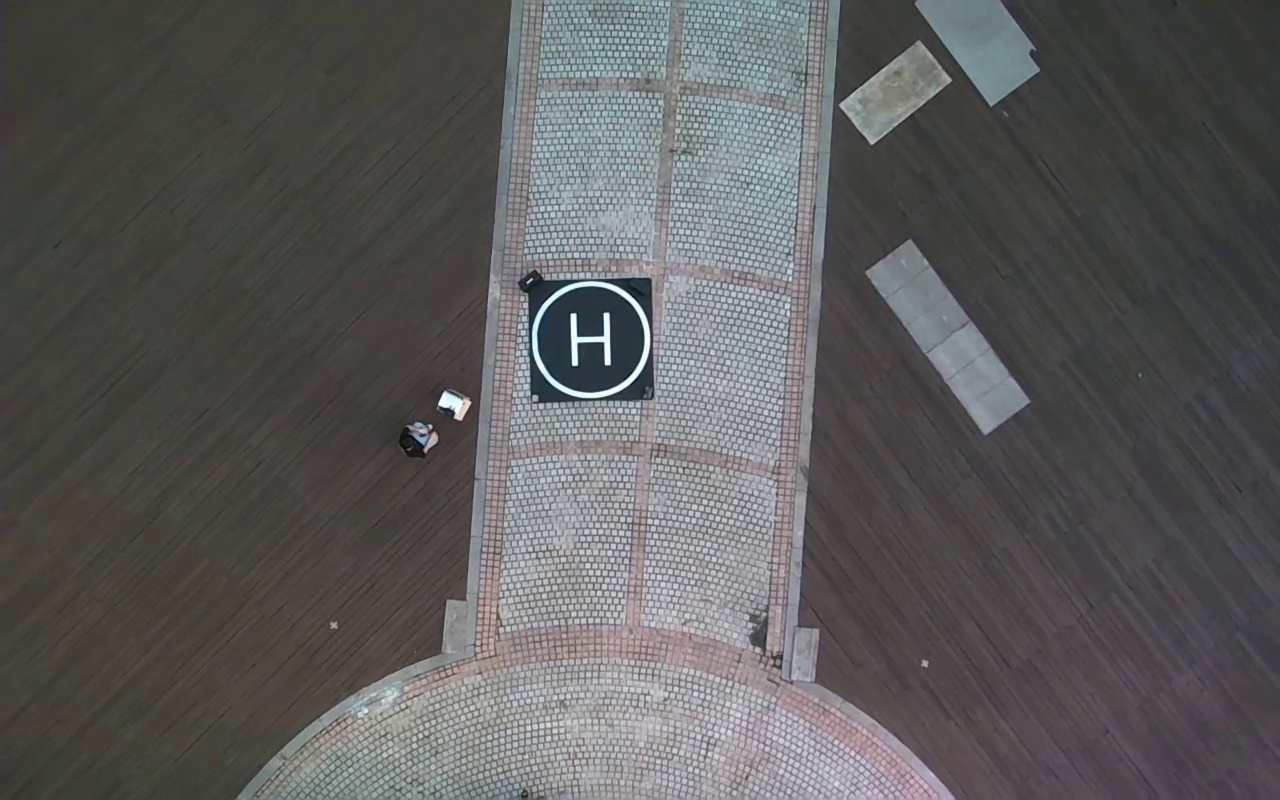H: (567, 309, 611, 368)
heliport: (531, 281, 653, 400)
